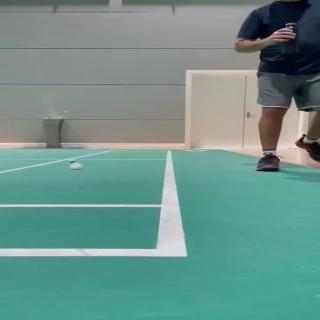Shuttle: (69, 159, 83, 170)
